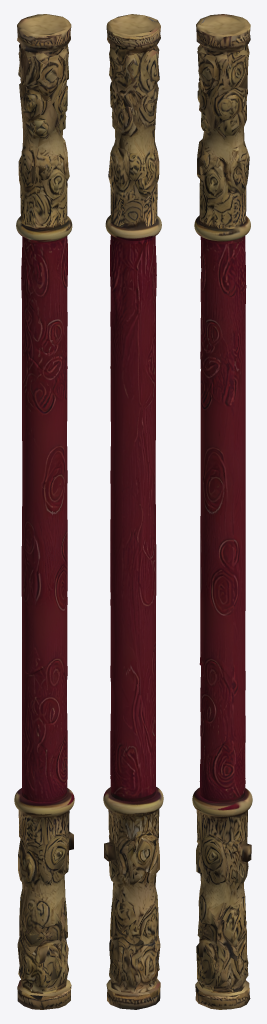
The model's file is wukong_staff.fbx.
3 renders of one model, left to right at view 1: azimuth 30°, elevation 25°; view 2: azimuth 210°, elevation 25°; view 3: azimuth 330°, elevation 25°, orthographic.
Parts seen in each view (by area): view 1: wukong_staff; view 2: wukong_staff; view 3: wukong_staff.
Part boxes in pixels (x1,y1,x2,y2): wukong_staff: (14, 14, 74, 1009); wukong_staff: (103, 14, 163, 1009); wukong_staff: (192, 14, 252, 1009).
Bounding box in the file's own units: 0.0571 × 0.998 × 0.0555.
